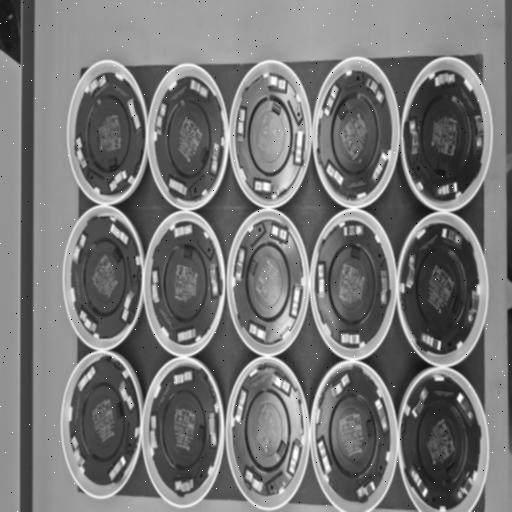konnektor: (452, 296, 461, 314), (277, 441, 286, 458), (446, 463, 455, 479), (272, 102, 282, 116), (339, 104, 348, 119), (200, 147, 208, 163), (113, 248, 121, 263), (250, 259, 257, 276), (116, 402, 123, 419), (367, 420, 374, 437), (437, 161, 447, 172), (183, 248, 193, 259), (108, 157, 117, 169), (351, 248, 360, 260), (198, 426, 204, 443)
yayli: (365, 76, 385, 105), (372, 150, 388, 184), (410, 467, 428, 497), (324, 83, 339, 118), (326, 163, 345, 190), (457, 472, 474, 502), (287, 439, 301, 475), (457, 393, 474, 422), (375, 398, 389, 433), (412, 387, 428, 417), (119, 380, 134, 411), (317, 441, 331, 474), (356, 478, 376, 501), (271, 372, 291, 395), (331, 373, 350, 397), (78, 366, 96, 391), (467, 289, 479, 326), (420, 332, 442, 352), (244, 469, 263, 492), (73, 234, 87, 265), (121, 290, 134, 323), (109, 456, 126, 481), (268, 222, 288, 243), (110, 224, 129, 246), (79, 310, 97, 333), (235, 389, 247, 423), (128, 99, 141, 130), (441, 227, 462, 246), (109, 170, 127, 192), (71, 436, 84, 466), (190, 79, 209, 99), (474, 113, 484, 151), (406, 252, 416, 289), (249, 323, 268, 342), (294, 130, 304, 166), (89, 75, 106, 96), (253, 179, 274, 196), (156, 103, 167, 135), (291, 282, 301, 317), (410, 118, 419, 156), (76, 137, 87, 168), (437, 181, 458, 197), (169, 177, 187, 195), (210, 142, 220, 174), (235, 249, 245, 281), (435, 72, 455, 88), (210, 263, 219, 298), (268, 74, 286, 91), (237, 108, 246, 142), (173, 370, 193, 385), (177, 328, 196, 343), (209, 412, 217, 447), (380, 270, 388, 305), (174, 224, 193, 238), (151, 270, 159, 303), (175, 479, 193, 493), (341, 332, 361, 344), (150, 415, 157, 449), (318, 264, 325, 298), (343, 226, 364, 236)
